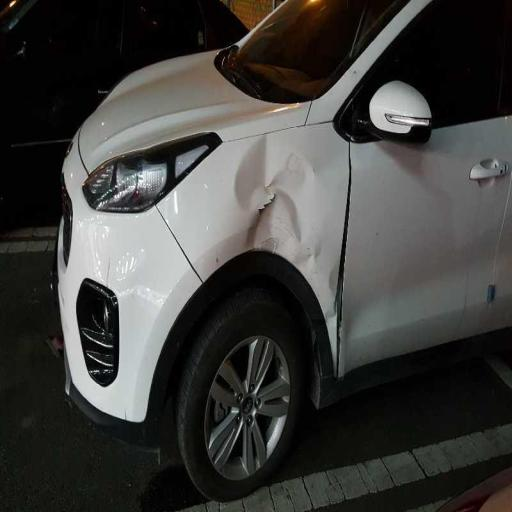dent: (213, 112, 352, 334)
